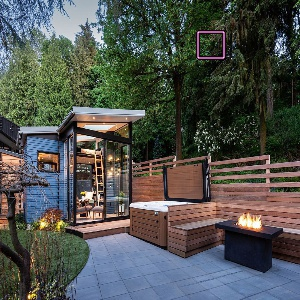square: (194, 28, 229, 62)
